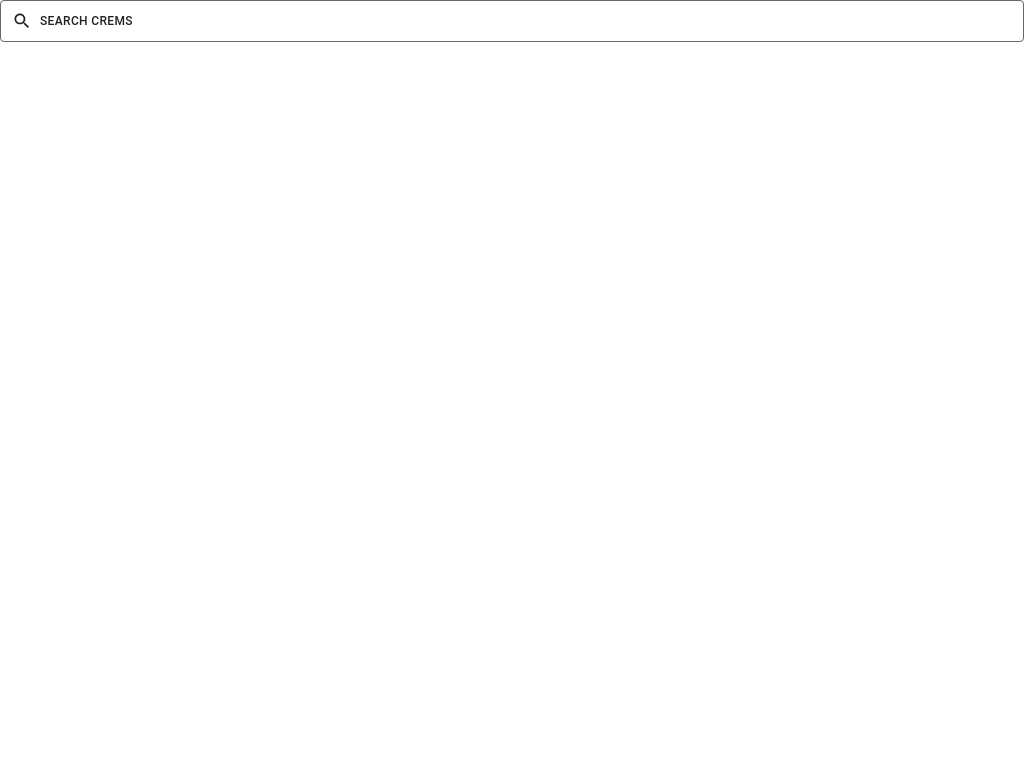
Test case: opens and closes using the keyboard shortcut and recovers from a failed request
Press k
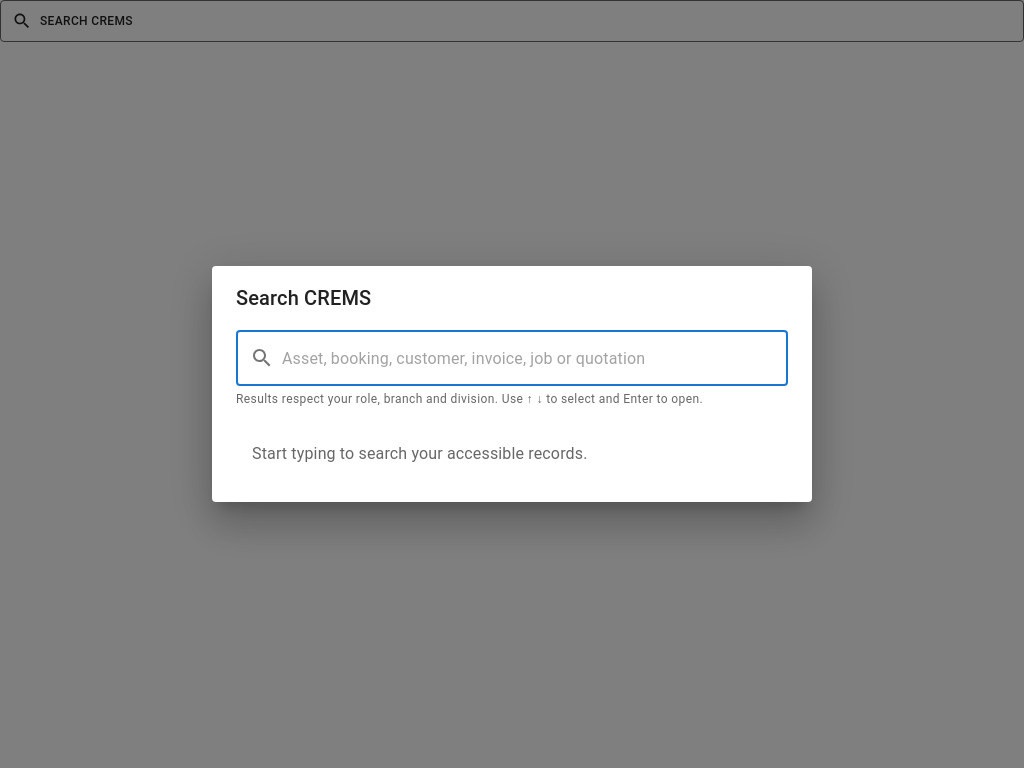
Type "EQ-1" into the dropdown named "Search CREMS records" at x=535, y=358, box [282,330,788,386]
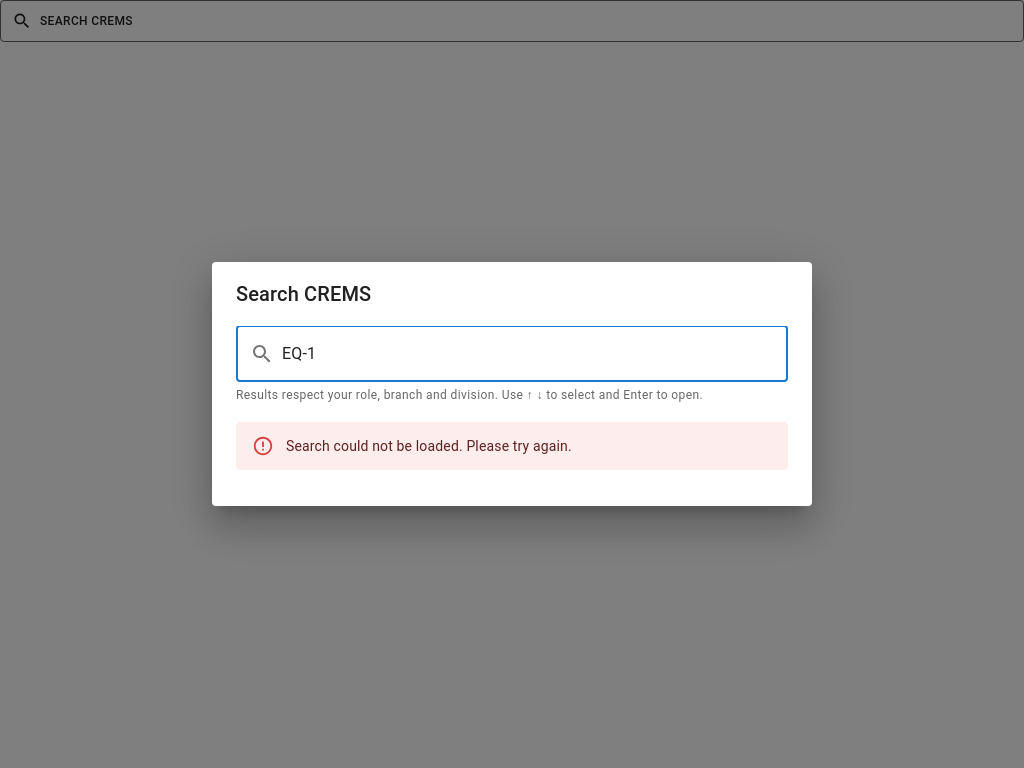
Check: the text "Search could not be loaded. Please try again." is shown, box [286,436,572,456]
Replace the text in the dropdown named "Search CREMS records" with "EQ-2" at x=535, y=354, box [282,326,788,382]
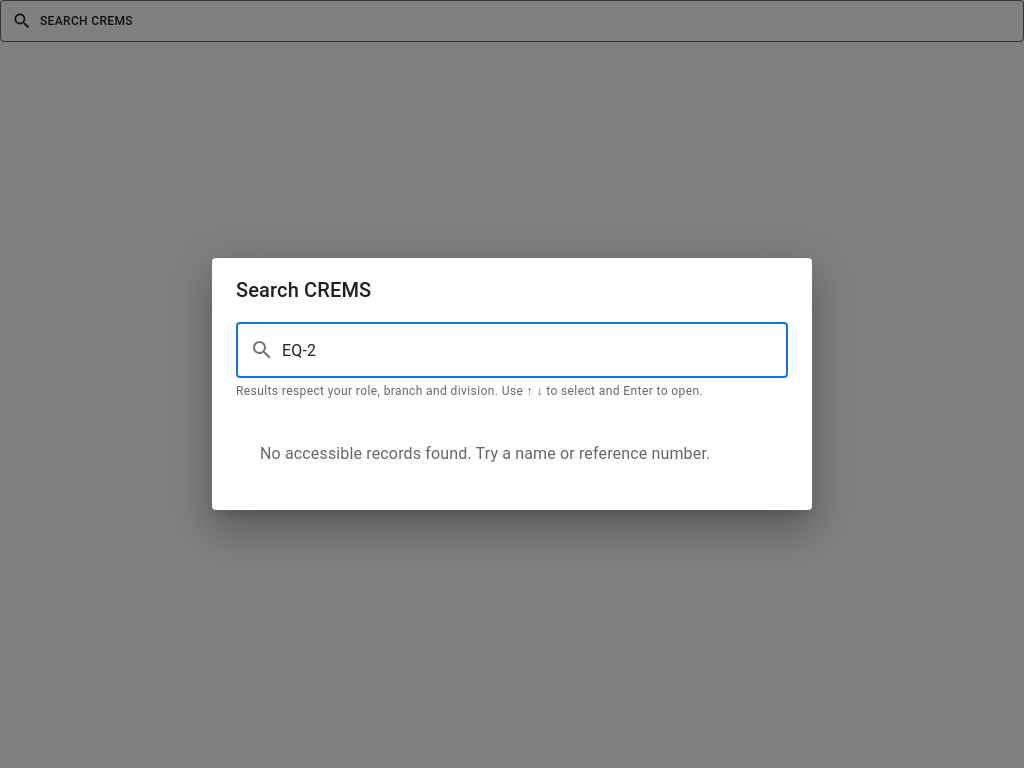
Check: the text "No accessible records found. Try a name or reference number." is shown, box [260,444,710,463]
Press K
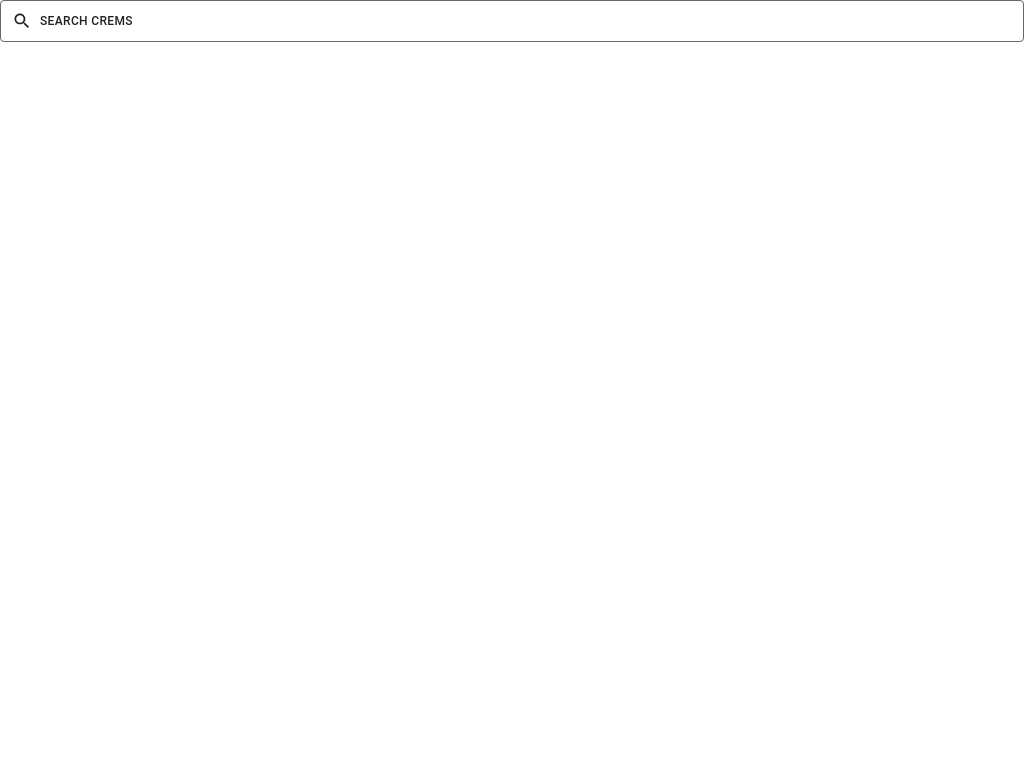
Check: the dialog is gone
